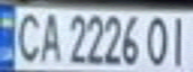2: (63, 10, 87, 65), (84, 10, 106, 65), (103, 11, 124, 66)
6: (121, 12, 145, 66)
A: (36, 9, 63, 63)
C: (9, 8, 45, 63)
I: (163, 12, 193, 69)
O: (142, 12, 172, 68)
